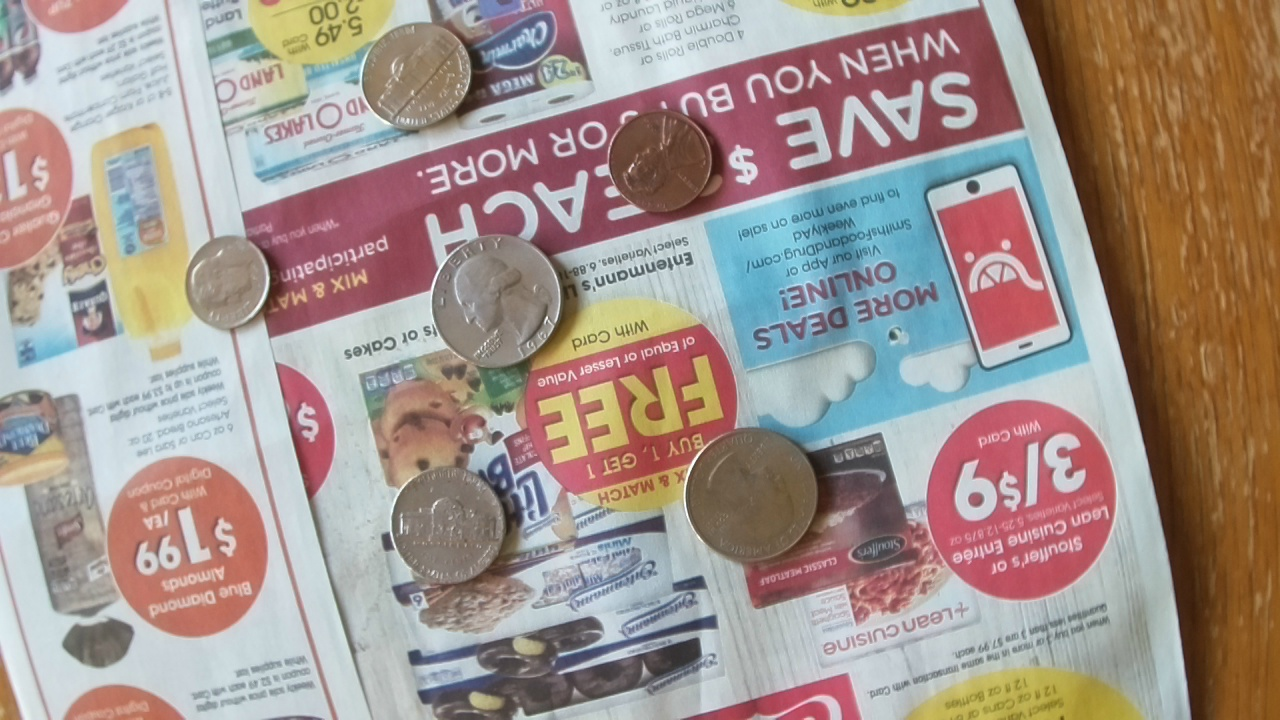dime: (184, 235, 274, 330)
nickel: (388, 464, 506, 586), (360, 20, 474, 130)
penny: (607, 111, 712, 215)
quarter: (685, 424, 821, 564), (429, 233, 564, 369)
